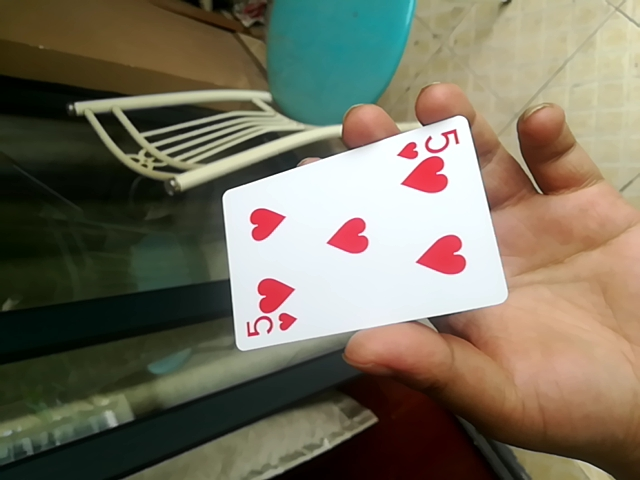hx 5: (218, 116, 502, 356)
